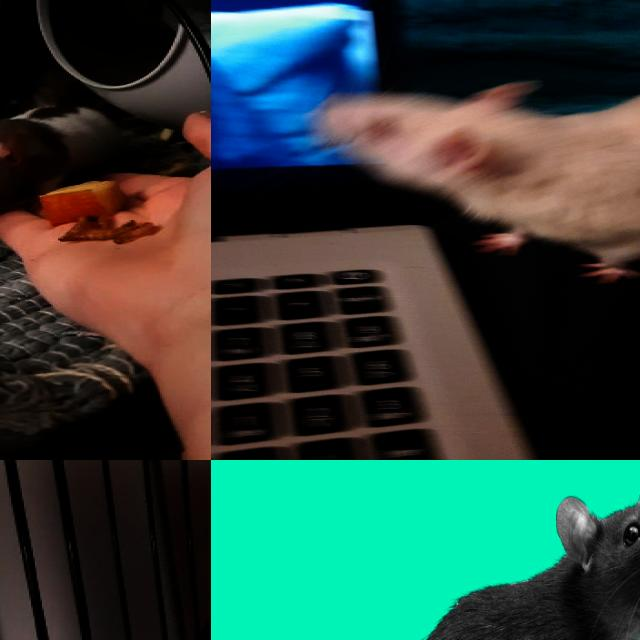rat: (211, 467, 640, 640), (311, 63, 640, 283), (0, 107, 136, 240)
